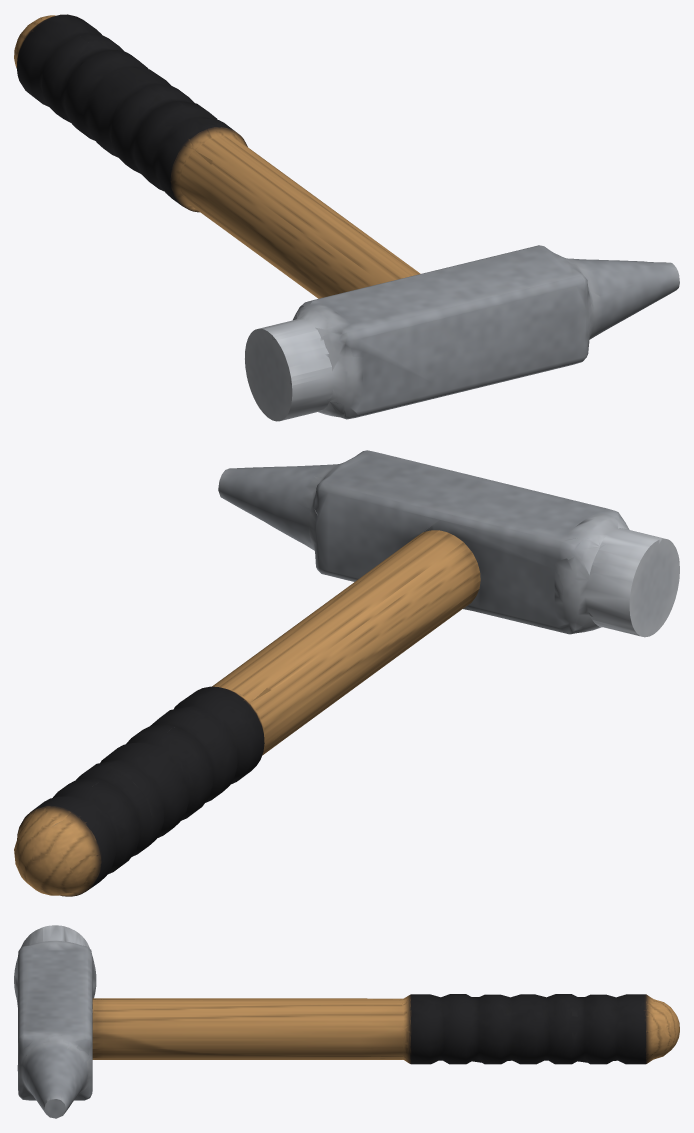
Rendered from hammer_edits.glb.
The picture shows the model from 3 angles, top to bottom: view 1: azimuth 30°, elevation 25°; view 2: azimuth 150°, elevation 25°; view 3: azimuth 270°, elevation 25°; orthographic projection. The views are drawn at different scales.
Parts seen in each view (by area): view 1: hammer_edits; view 2: hammer_edits; view 3: hammer_edits.
Boxes of the visible parts, x1,y1,x2,y2 form: hammer_edits: (14, 14, 679, 421); hammer_edits: (14, 450, 679, 896); hammer_edits: (14, 925, 679, 1118).
Bounding box in the file's own units: 0.162 × 0.0377 × 0.3027.
Materials: 1 (1 with a texture image).
